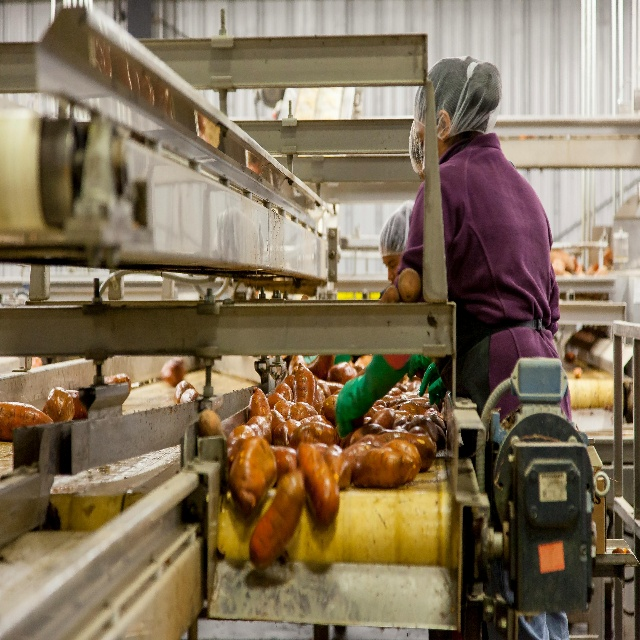Guantes: (334, 355, 409, 439), (419, 359, 444, 409)
